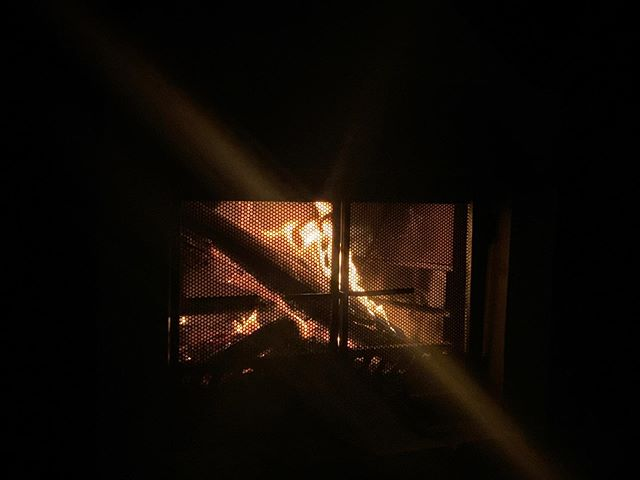fireplace: (173, 198, 459, 373)
